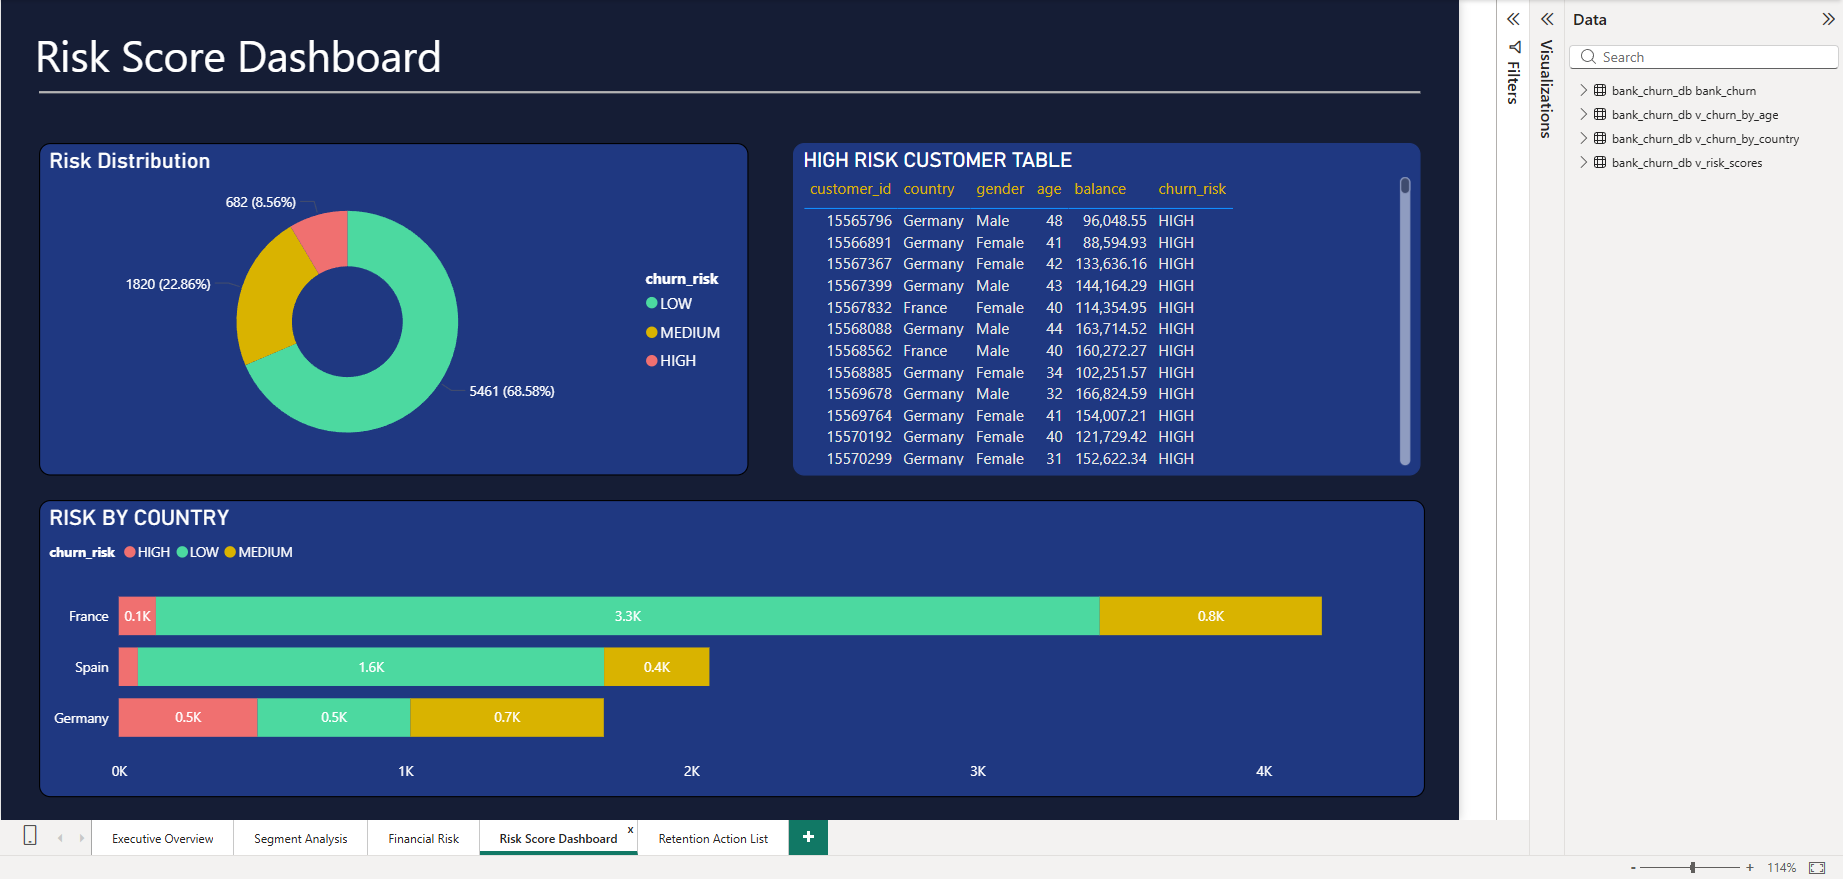

The dashboard page shown, as its layout file describes it:
{"tool":"powerbi","page":{"name":"Risk Score Dashboard","canvas":[1280,720],"ordinal":3},"visuals":[{"type":"donutChart","title":"Risk Distribution","fields":{"Category":["bank_churn_db v_risk_scores.churn_risk"],"Y":["CountNonNull(bank_churn_db v_risk_scores.customer_id)"]},"box":[33.1,125.5,623.5,291.8],"z":0},{"type":"barChart","title":"RISK BY COUNTRY","fields":{"Category":["bank_churn_db v_risk_scores.country"],"Y":["CountNonNull(bank_churn_db v_risk_scores.customer_id)"],"Series":["bank_churn_db v_risk_scores.churn_risk"]},"box":[33.1,438.7,1216.8,260.7],"z":1000},{"type":"tableEx","title":"HIGH RISK CUSTOMER TABLE","fields":{"Values":["bank_churn_db v_risk_scores.customer_id","bank_churn_db v_risk_scores.country","bank_churn_db v_risk_scores.gender","bank_churn_db v_risk_scores.age","bank_churn_db v_risk_scores.balance","bank_churn_db v_risk_scores.churn_risk"]},"box":[695.4,125.5,550.5,291.8],"z":2000},{"type":"textbox","box":[24.3,18.5,376.4,59.3],"z":3000},{"type":"shape","box":[33.1,47.7,1212.9,67.1],"z":4000}]}

Visuals, with their boxes on the page's 1280x720 design canvas (x1, y1, x2, y2). These are canvas units, not pixel positions in the 1843x879 screenshot, which may show the page scaled, cropped or inside an application window:
"Risk Distribution" donutChart: [33,126,657,417]
"RISK BY COUNTRY" barChart: [33,439,1250,699]
"HIGH RISK CUSTOMER TABLE" tableEx: [695,126,1246,417]
textbox: [24,18,401,78]
shape: [33,48,1246,115]
